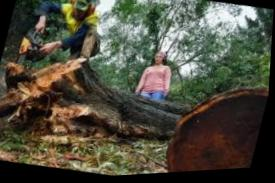Downstairs: (0, 33, 192, 162)
